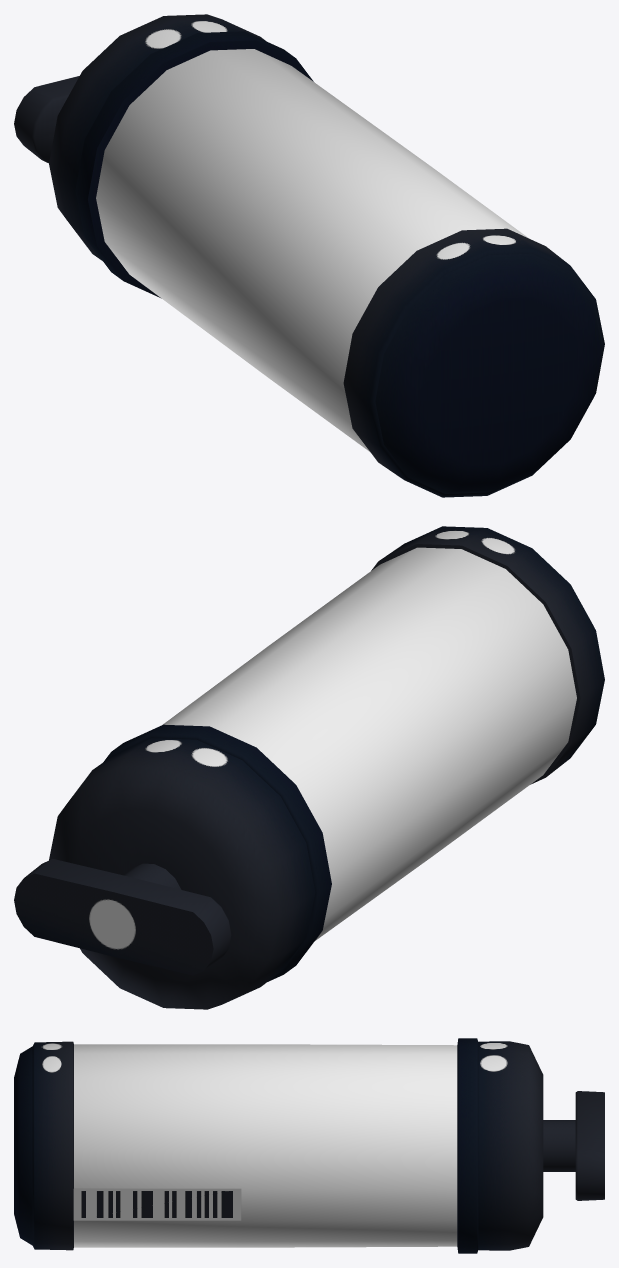
File: Clear Pump Canister.fbx
3 views of the same model, one above another, from view 1: azimuth 30°, elevation 25°; view 2: azimuth 150°, elevation 25°; view 3: azimuth 270°, elevation 25° (orthographic). The views are drawn at different scales.
Visible parts, largest first — view 1: Glass.001, Label; view 2: Glass.001, Label; view 3: Glass.001, Label.
Part boxes in pixels (box(x1,y1,x2,y2)): Glass.001: box(96, 49, 528, 451); Label: box(14, 14, 604, 497); Glass.001: box(162, 547, 576, 941); Label: box(14, 526, 604, 1009); Glass.001: box(74, 1044, 457, 1247); Label: box(14, 1038, 604, 1253).
Bounding box in the file's own units: 61.93 × 61.93 × 170.
3 materials, 1 textured.
